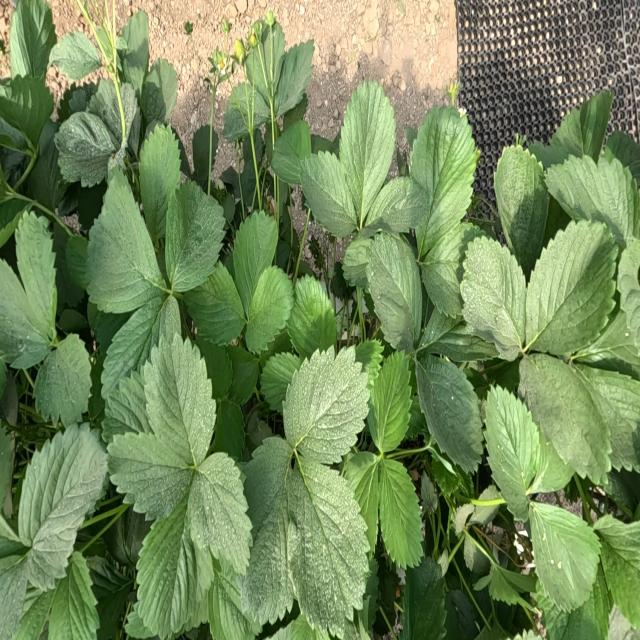Leaves: (19, 424, 107, 589), (287, 454, 368, 629), (527, 221, 616, 355), (520, 353, 610, 481), (86, 170, 164, 311), (136, 501, 212, 637), (410, 106, 477, 258), (241, 440, 294, 627), (284, 347, 369, 463), (144, 333, 215, 469), (190, 454, 251, 586), (339, 81, 395, 224), (416, 353, 482, 472), (485, 386, 543, 519), (102, 303, 179, 403), (461, 241, 526, 359), (530, 503, 599, 611), (108, 432, 192, 519), (495, 145, 548, 279), (366, 232, 422, 351), (576, 366, 640, 470), (165, 182, 225, 292), (0, 260, 50, 369), (15, 213, 56, 339), (593, 517, 639, 628), (35, 334, 91, 425), (537, 571, 610, 639), (378, 459, 423, 568), (139, 124, 179, 245), (184, 263, 244, 343), (232, 211, 277, 315), (300, 151, 355, 236), (54, 112, 117, 186), (415, 307, 498, 363), (548, 91, 611, 163), (368, 350, 411, 453), (48, 553, 99, 639), (420, 224, 466, 317), (87, 553, 135, 639), (246, 266, 293, 353), (287, 276, 335, 358), (1, 75, 54, 148), (546, 155, 604, 221), (595, 153, 636, 245), (245, 21, 284, 117), (402, 556, 447, 639), (9, 0, 56, 78), (575, 310, 640, 365), (343, 452, 379, 551), (365, 176, 427, 231), (88, 77, 134, 149), (1, 516, 28, 638), (209, 572, 255, 639), (529, 425, 575, 492), (274, 40, 314, 115), (104, 507, 151, 565), (140, 59, 178, 130), (28, 142, 66, 210), (53, 226, 83, 312), (88, 300, 131, 359), (271, 121, 311, 184), (224, 83, 267, 141), (11, 585, 56, 639), (196, 331, 232, 398), (50, 32, 100, 80), (618, 239, 640, 347), (261, 352, 299, 411), (116, 10, 149, 74), (605, 131, 640, 187), (226, 346, 259, 405), (213, 400, 243, 459), (445, 590, 479, 639), (489, 564, 527, 607), (343, 234, 371, 287), (359, 561, 379, 631), (355, 340, 384, 388), (265, 615, 323, 639), (432, 455, 462, 500), (66, 235, 88, 290), (463, 538, 490, 580), (1, 423, 14, 509), (125, 603, 156, 639), (193, 126, 210, 190), (496, 568, 536, 591), (0, 199, 28, 229), (420, 471, 438, 514), (59, 309, 88, 333), (454, 504, 475, 535), (469, 505, 499, 524), (342, 623, 370, 639), (479, 485, 503, 499), (473, 574, 491, 590), (212, 130, 218, 165), (481, 578, 489, 588)
Strawberries: (309, 238, 326, 271), (447, 81, 459, 104), (234, 40, 244, 62), (217, 55, 227, 75), (265, 10, 276, 26), (222, 20, 232, 35), (184, 21, 193, 34), (249, 33, 256, 47), (269, 196, 274, 215)
